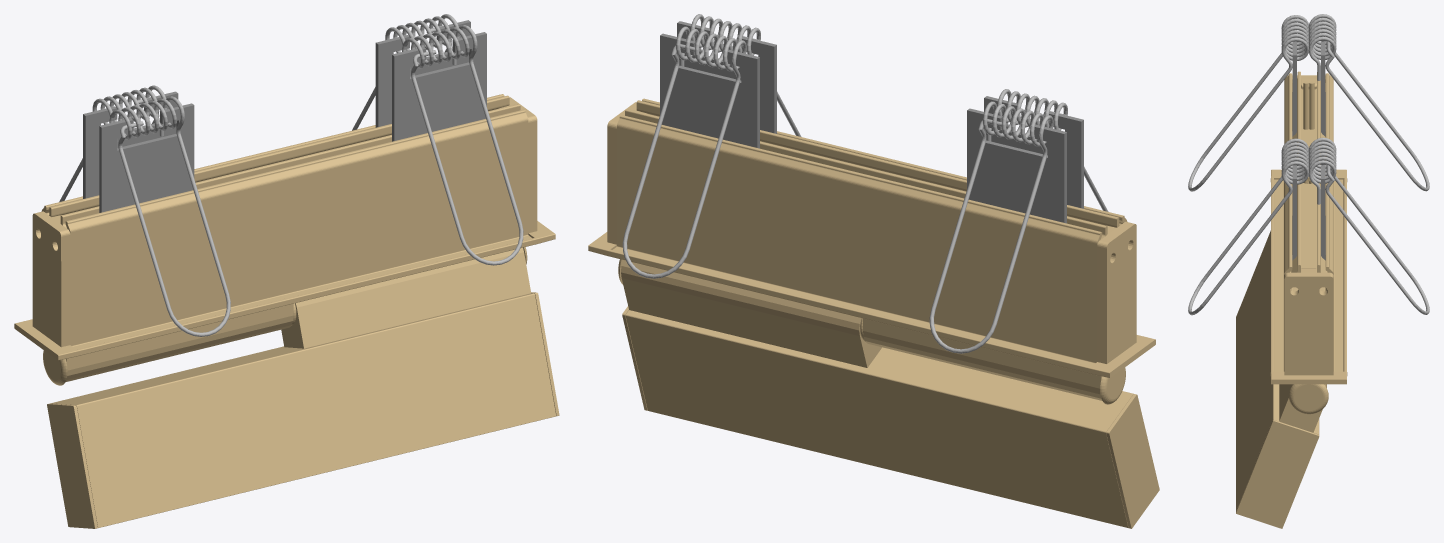
File: Grid-microborda-direcionavel.glb
3 views of the same model, side by side, from view 1: azimuth 30°, elevation 25°; view 2: azimuth 150°, elevation 25°; view 3: azimuth 270°, elevation 25° (orthographic). The views are drawn at different scales.
Visible parts, largest first — view 1: 3DGeom-31, 3DGeom-11, 3DGeom-5 (×4), 3DGeom-13 (×2), 3DGeom-8 (×4), 3DGeom-24 (×2), 3DGeom-1; view 2: 3DGeom-31, 3DGeom-11, 3DGeom-5 (×4), 3DGeom-13 (×2), 3DGeom-8 (×4), 3DGeom-24 (×2), 3DGeom-1; view 3: 3DGeom-31, 3DGeom-8 (×4), 3DGeom-11, 3DGeom-24 (×2), 3DGeom-1, 3DGeom-5 (×4), 3DGeom-3, 3DGeom-13, 3DGeom-39, 3DGeom-41.
Part boxes in pixels (left/top/right/bottom): 3DGeom-31: left=41, top=94, right=536, bottom=355; 3DGeom-11: left=51, top=293, right=556, bottom=527; 3DGeom-5 (×4): left=83, top=20, right=486, bottom=212; 3DGeom-13 (×2): left=65, top=247, right=530, bottom=382; 3DGeom-8 (×4): left=59, top=14, right=523, bottom=336; 3DGeom-24 (×2): left=14, top=97, right=555, bottom=360; 3DGeom-1: left=47, top=403, right=97, bottom=528; 3DGeom-31: left=608, top=98, right=1127, bottom=373; 3DGeom-11: left=625, top=310, right=1133, bottom=527; 3DGeom-5 (×4): left=660, top=21, right=1083, bottom=223; 3DGeom-13 (×2): left=621, top=260, right=1102, bottom=400; 3DGeom-8 (×4): left=622, top=14, right=1108, bottom=353; 3DGeom-24 (×2): left=588, top=102, right=1155, bottom=377; 3DGeom-1: left=1106, top=394, right=1159, bottom=528; 3DGeom-31: left=1271, top=71, right=1346, bottom=371; 3DGeom-8 (×4): left=1188, top=14, right=1429, bottom=315; 3DGeom-11: left=1236, top=232, right=1319, bottom=511; 3DGeom-24 (×2): left=1270, top=75, right=1347, bottom=384; 3DGeom-1: left=1236, top=420, right=1319, bottom=528; 3DGeom-5 (×4): left=1292, top=17, right=1325, bottom=260; 3DGeom-3: left=1289, top=384, right=1328, bottom=414; 3DGeom-13: left=1279, top=384, right=1326, bottom=432; 3DGeom-39: left=1303, top=81, right=1308, bottom=183; 3DGeom-41: left=1309, top=81, right=1314, bottom=183.
Bounding box in the file's own units: 0.1368 × 0.1041 × 0.0665.
